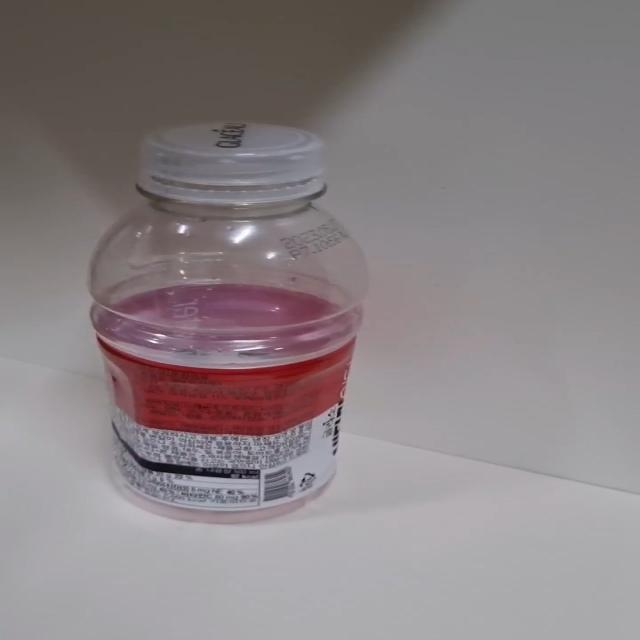Plastic: (86, 122, 371, 526)
